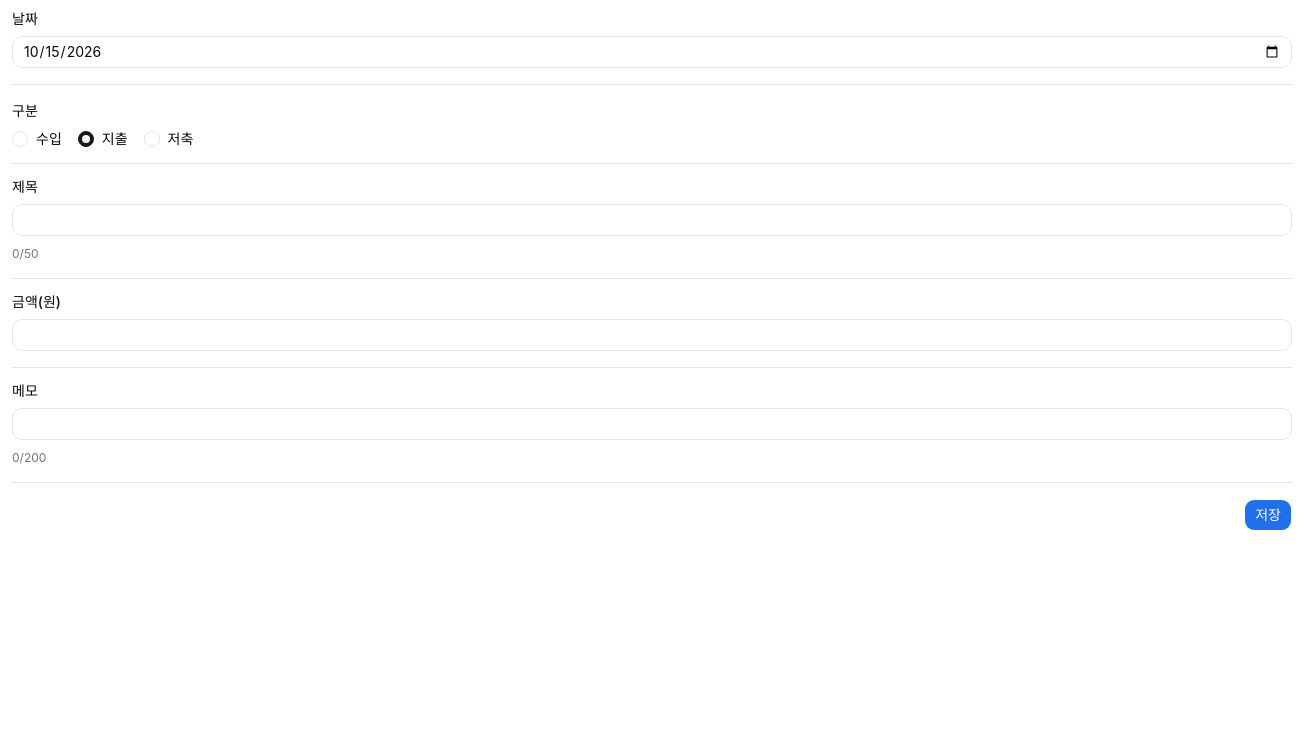
Test: RecordForm › shows income types only when 수입 is selected
The image size is (1304, 732).
Check: the radio button labelled "급여" is not shown
Step 1. Click the radio button named "수입" next to "수입" → (20, 139), box [12,131,28,147]
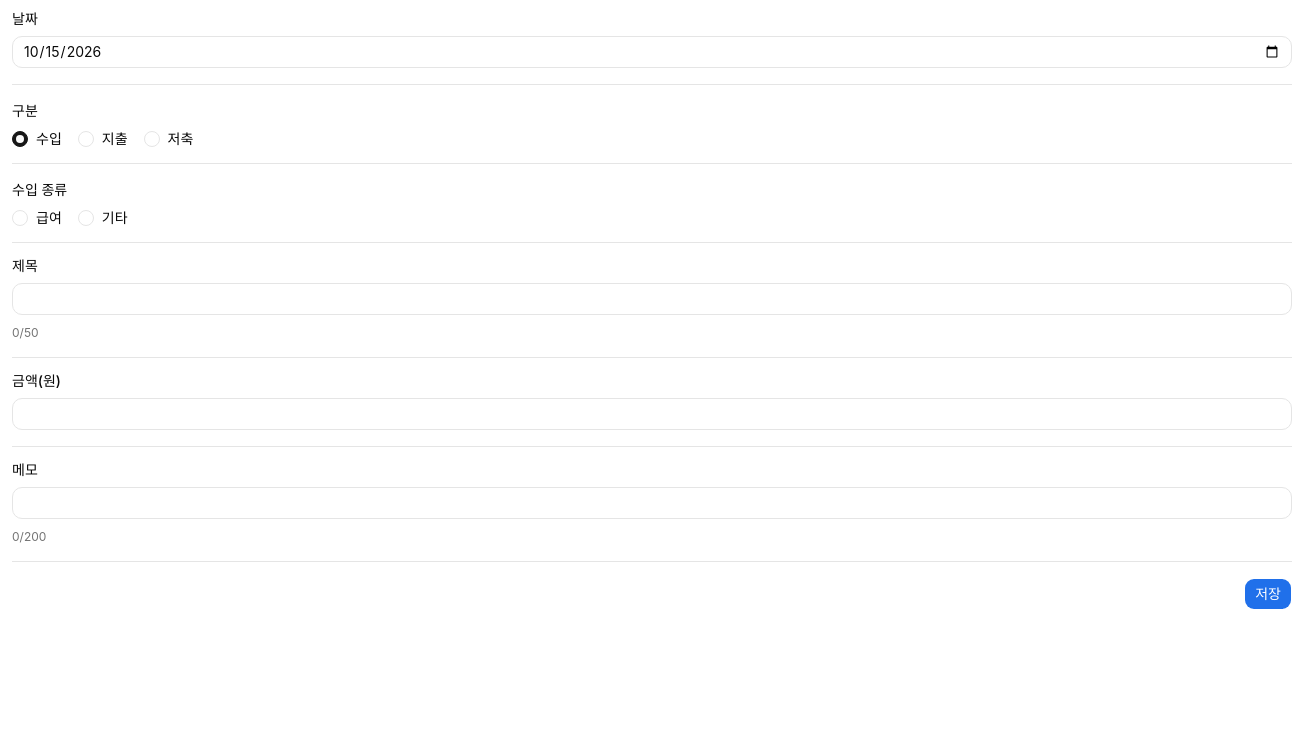
Check: the radio button named "기타" next to "기타" is shown, box [78,210,94,226]
Check: the radio button named "급여" next to "급여" is shown, box [12,210,28,226]
Step 2. Click the radio button named "저축" next to "저축" → (152, 139), box [144,131,160,147]
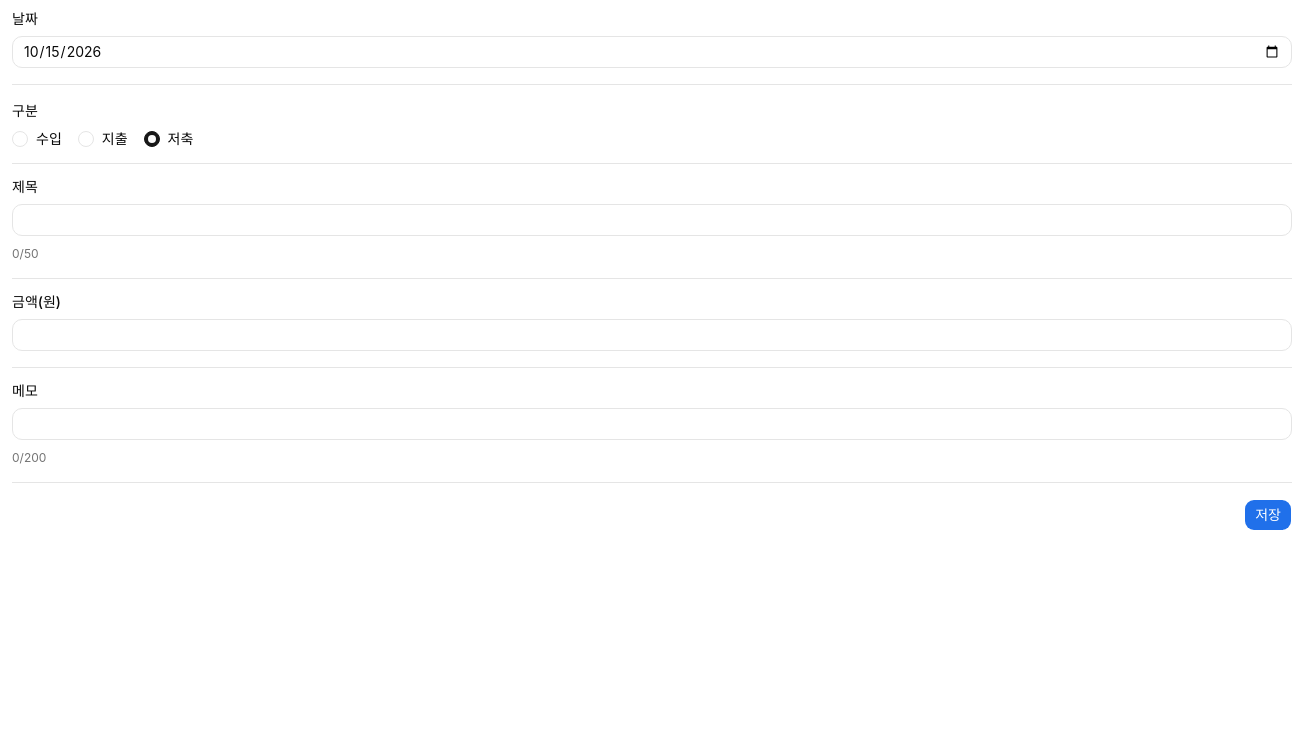
Check: the label "급여" is gone
